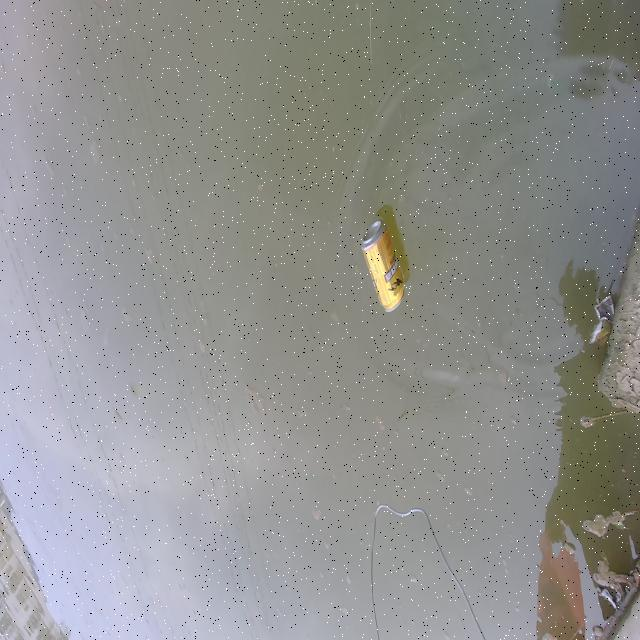Can: (358, 211, 408, 316)
